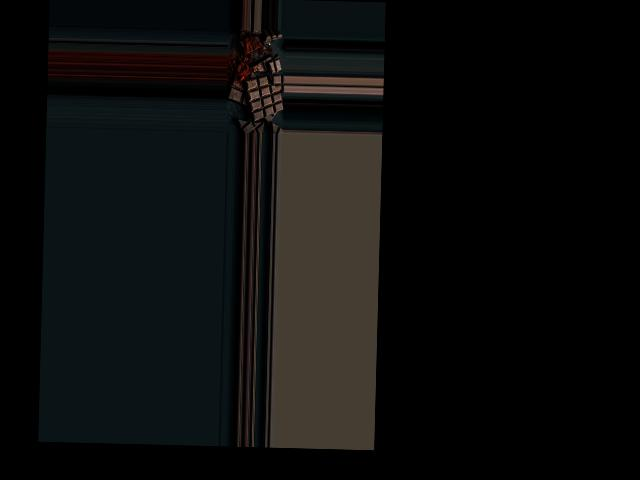chocolate: (243, 75, 284, 123)
